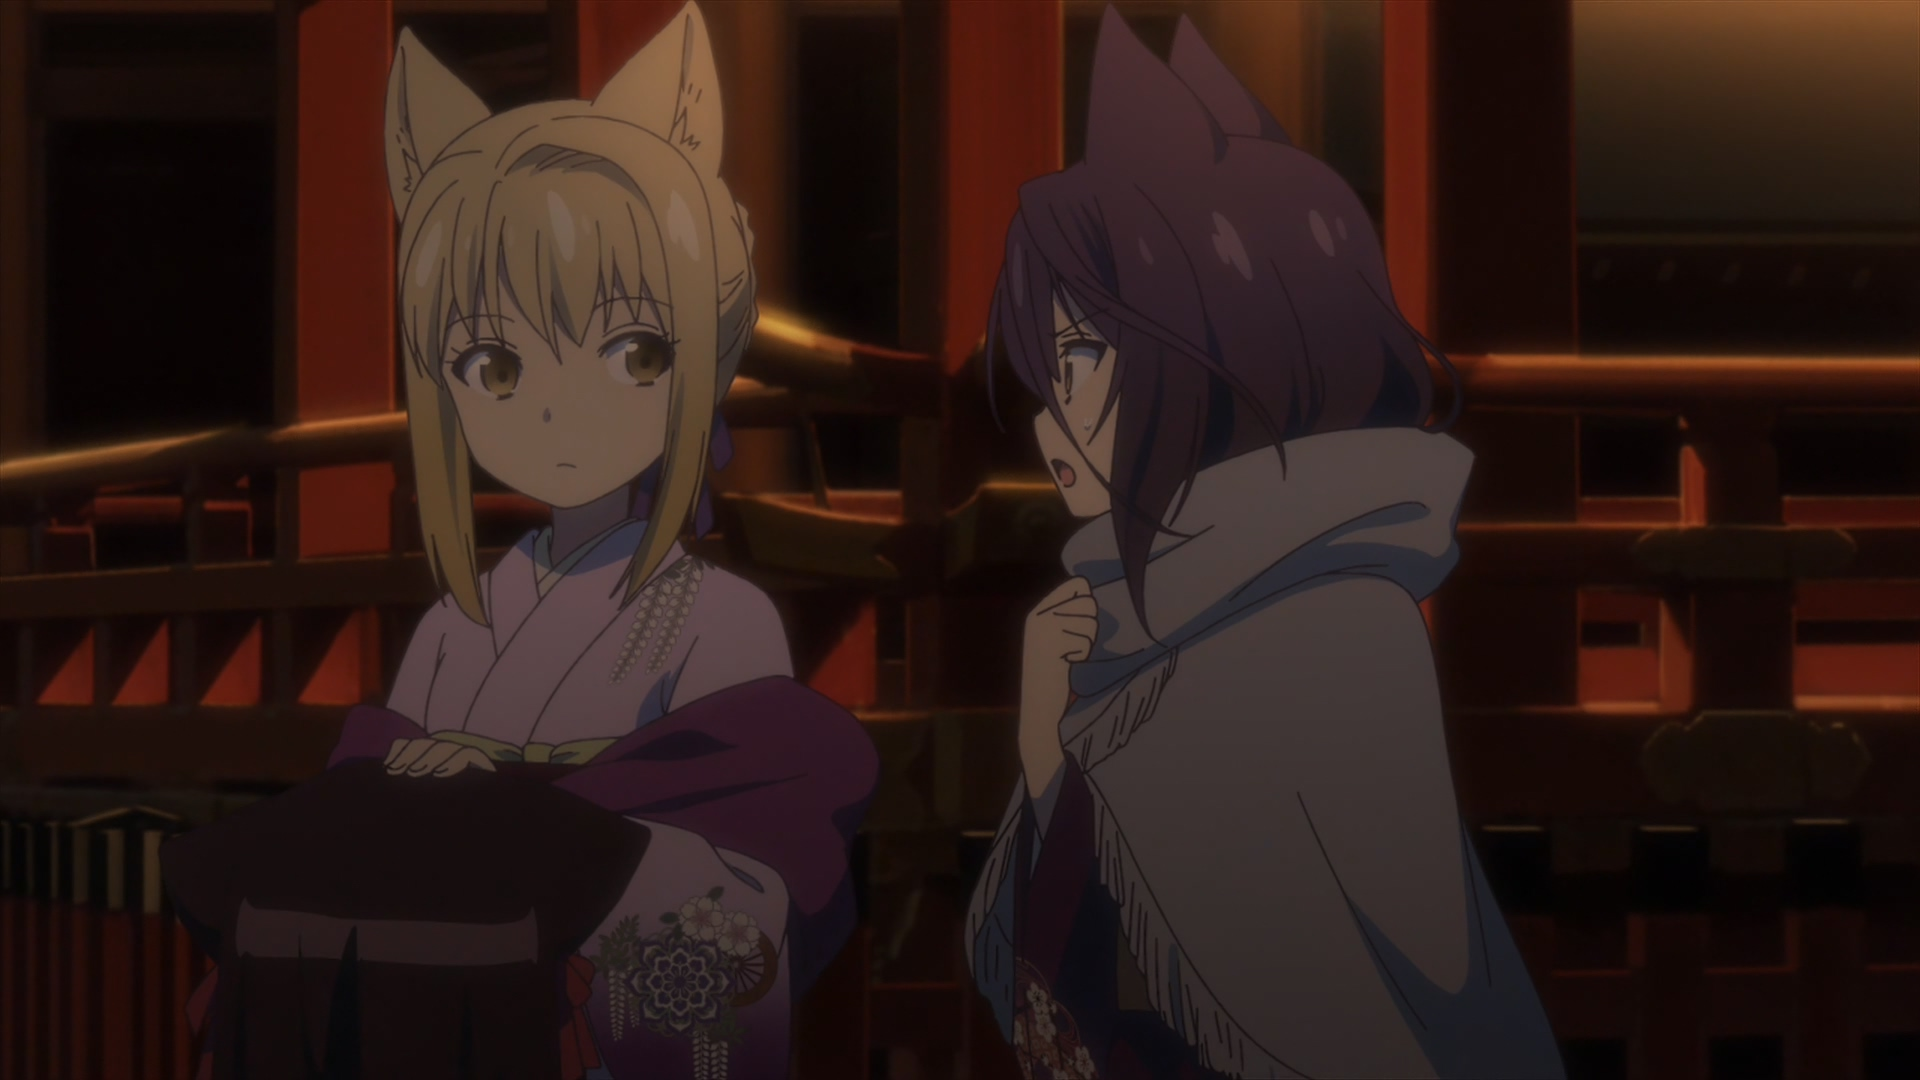桐: (386, 1, 882, 1080)
樱: (162, 764, 650, 1080)
皋: (964, 1, 1563, 1080)
